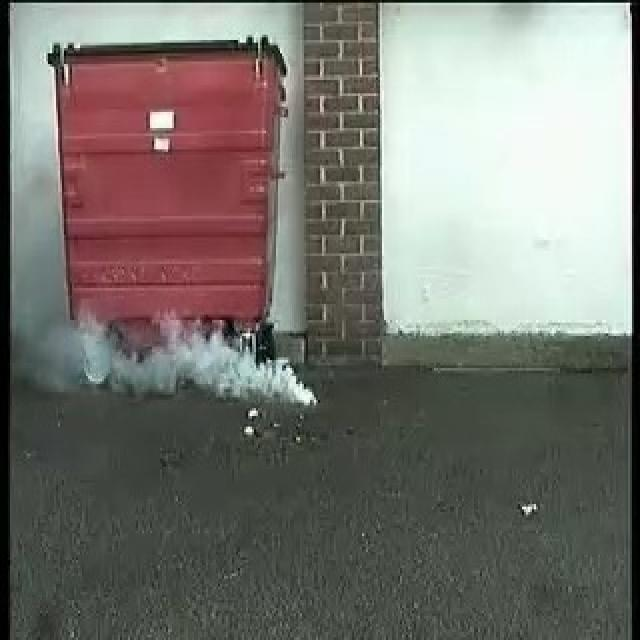smoke: (69, 316, 318, 403)
